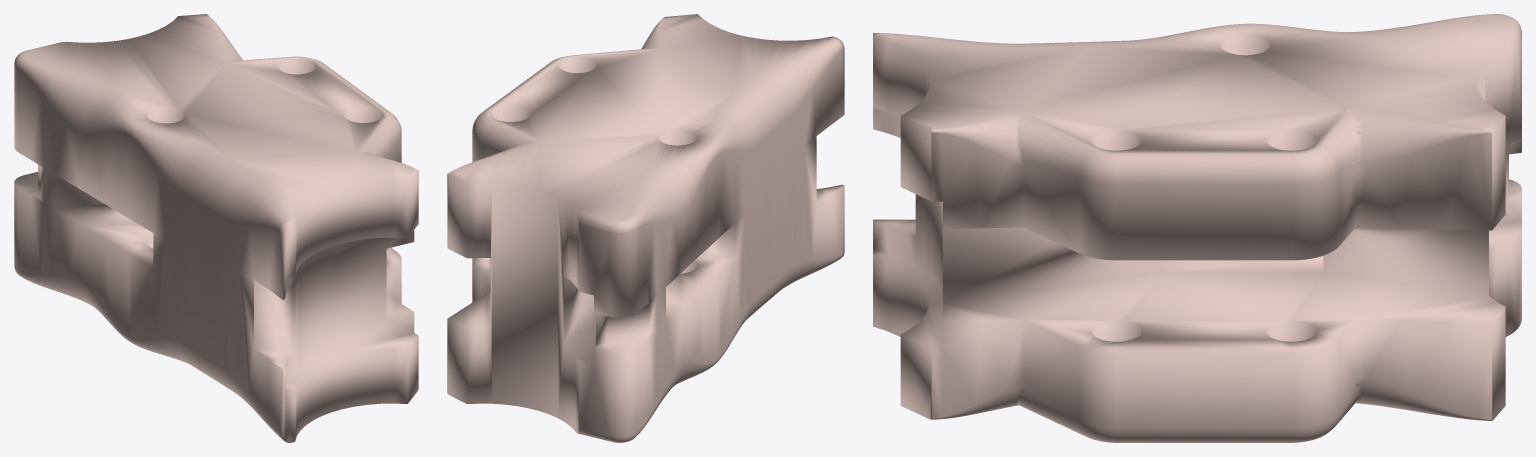
The model's file is middle_mlp_1.obj.
3 renders of one model, left to right at view 1: azimuth 30°, elevation 25°; view 2: azimuth 150°, elevation 25°; view 3: azimuth 270°, elevation 25°, orthographic. The views are drawn at different scales.
Bounding box in the file's own units: 14.13 × 12.6 × 25.55.
